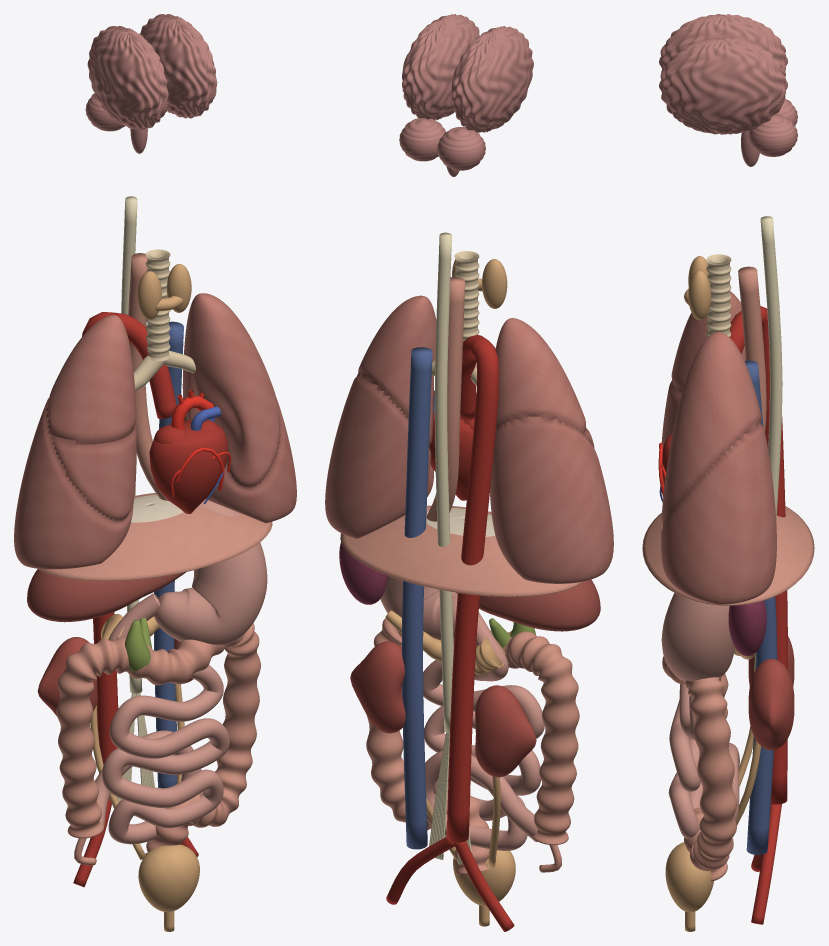
The model's file is lab-organs-approved-v1-ultra.glb.
3 views of the same model, side by side, from view 1: azimuth 30°, elevation 25°; view 2: azimuth 150°, elevation 25°; view 3: azimuth 270°, elevation 25° (orthographic). The views are drawn at different scales.
Visible parts, largest first — view 1: part-large-intestine__mesh, review-small-intestine, part-brain-structures, part-diaphragm__mesh, part-right-lung-lower, part-left-lung-upper, part-right-lung-upper, review-stomach, part-right-lung-middle, review-liver, part-great-vessels__mesh, part-myocardium (+13 smaller); view 2: part-right-lung-lower, part-brain-structures, part-great-vessels__mesh, part-large-intestine__mesh, part-left-lung-lower, part-great-vessels__mesh.001, part-diaphragm__mesh, review-small-intestine, part-kidneys__mesh, part-spinal-cord__mesh, part-right-lung-upper, part-left-lung-upper (+10 smaller); view 3: part-brain-structures, part-left-lung-lower, part-left-lung-upper, part-large-intestine__mesh, review-stomach, part-great-vessels__mesh, part-diaphragm__mesh, review-small-intestine, part-kidneys__mesh, part-spinal-cord__mesh, part-great-vessels__mesh.001, part-bladder__mesh (+7 smaller).
Boxes of the visible parts, box(x1,y1,x2,y2) form: part-large-intestine__mesh: box(56, 623, 260, 865); review-small-intestine: box(95, 593, 229, 844); part-brain-structures: box(85, 14, 217, 153); part-diaphragm__mesh: box(38, 493, 272, 581); part-right-lung-lower: box(14, 398, 133, 569); part-left-lung-upper: box(182, 293, 279, 486); part-right-lung-upper: box(46, 315, 136, 444); review-stomach: box(154, 499, 267, 645); part-right-lung-middle: box(51, 424, 136, 520); review-liver: box(27, 569, 186, 622); part-great-vessels__mesh: box(73, 312, 198, 887); part-myocardium: box(149, 420, 228, 513); part-right-lung-lower: box(490, 416, 613, 583); part-brain-structures: box(399, 14, 533, 176); part-great-vessels__mesh: box(386, 335, 514, 931); part-large-intestine__mesh: box(366, 618, 579, 874); part-left-lung-lower: box(325, 374, 433, 538); part-great-vessels__mesh.001: box(401, 347, 432, 849); part-diaphragm__mesh: box(340, 505, 582, 596); review-small-intestine: box(423, 612, 544, 850); part-kidneys__mesh: box(350, 641, 536, 777); part-spinal-cord__mesh: box(429, 232, 471, 864); part-right-lung-upper: box(495, 318, 585, 435); part-left-lung-upper: box(357, 295, 436, 445); part-brain-structures: box(659, 14, 797, 166); part-left-lung-lower: box(661, 422, 776, 604); part-left-lung-upper: box(661, 332, 761, 523); part-large-intestine__mesh: box(662, 656, 737, 881); review-stomach: box(661, 593, 734, 681); part-great-vessels__mesh: box(730, 306, 787, 924); part-diaphragm__mesh: box(642, 506, 814, 605); review-small-intestine: box(668, 684, 739, 838); part-kidneys__mesh: box(748, 636, 794, 750); part-spinal-cord__mesh: box(754, 216, 782, 672); part-great-vessels__mesh.001: box(744, 360, 777, 854); part-bladder__mesh: box(665, 842, 713, 931).
Bounding box in the file's own units: 32.85 × 104 × 18.
